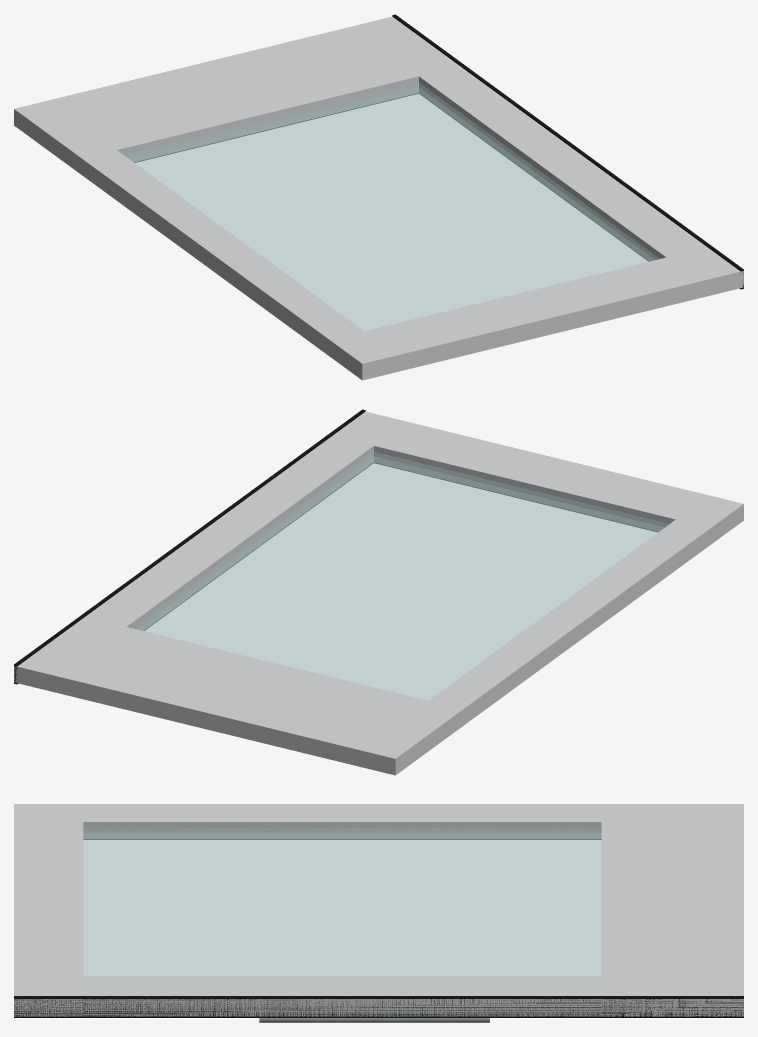
The model's file is front_door_left.obj.
3 views of the same model, one above another, from view 1: azimuth 30°, elevation 25°; view 2: azimuth 150°, elevation 25°; view 3: azimuth 270°, elevation 25° (orthographic). The views are drawn at different scales.
Visible parts, largest first — view 1: pane, lower_panel, upper_rail, meeting_stile, outer_stile, seal; view 2: pane, lower_panel, upper_rail, meeting_stile, outer_stile, seal; view 3: pane, lower_panel, meeting_stile, outer_stile, upper_rail, seal, handle, pane_gasket_front.
Boxes of the visible parts, x1=… form: pane: x1=124, y1=82, x2=659, y2=330; lower_panel: x1=14, y1=16, x2=459, y2=174; upper_rail: x1=329, y1=247, x2=743, y2=380; meeting_stile: x1=419, y1=66, x2=707, y2=261; outer_stile: x1=82, y1=150, x2=363, y2=355; seal: x1=392, y1=14, x2=743, y2=289; pane: x1=133, y1=452, x2=669, y2=700; lower_panel: x1=14, y1=617, x2=463, y2=775; upper_rail: x1=333, y1=411, x2=743, y2=544; meeting_stile: x1=85, y1=435, x2=373, y2=630; outer_stile: x1=429, y1=519, x2=710, y2=725; seal: x1=14, y1=409, x2=365, y2=684; pane: x1=83, y1=828, x2=601, y2=976; lower_panel: x1=601, y1=804, x2=743, y2=1016; meeting_stile: x1=83, y1=976, x2=601, y2=1016; outer_stile: x1=83, y1=804, x2=601, y2=839; upper_rail: x1=14, y1=804, x2=83, y2=1016; seal: x1=14, y1=996, x2=743, y2=1017; handle: x1=259, y1=1018, x2=489, y2=1022; pane_gasket_front: x1=83, y1=839, x2=601, y2=839.
Bounding box in the file's own units: 0.6 × 0.052 × 0.949.
